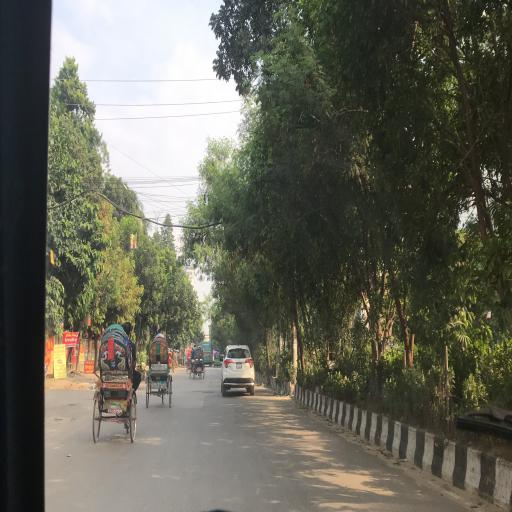bus: (205, 342, 213, 368)
rickshaw: (92, 325, 138, 448), (146, 334, 172, 408), (196, 348, 205, 380), (190, 346, 196, 379), (170, 353, 175, 375)
suv: (222, 345, 256, 398)
three wheelers (CNG): (215, 353, 221, 369)
